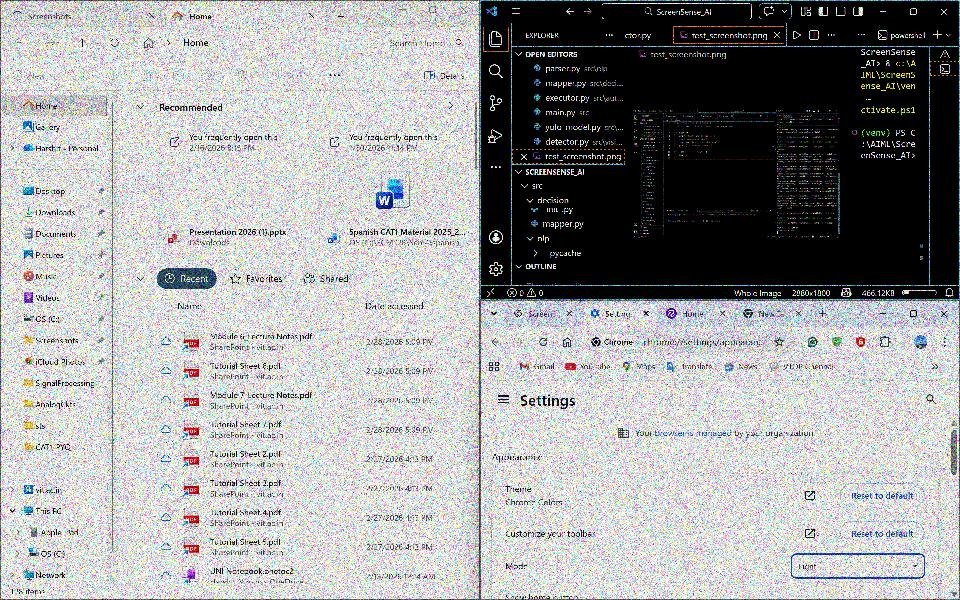close_button: (933, 302, 955, 324), (454, 2, 473, 22), (934, 3, 955, 19)
maximize_button: (900, 303, 927, 324), (423, 2, 444, 23), (904, 2, 924, 19)
minimize_button: (871, 302, 895, 325), (394, 2, 412, 22), (873, 3, 892, 21)
